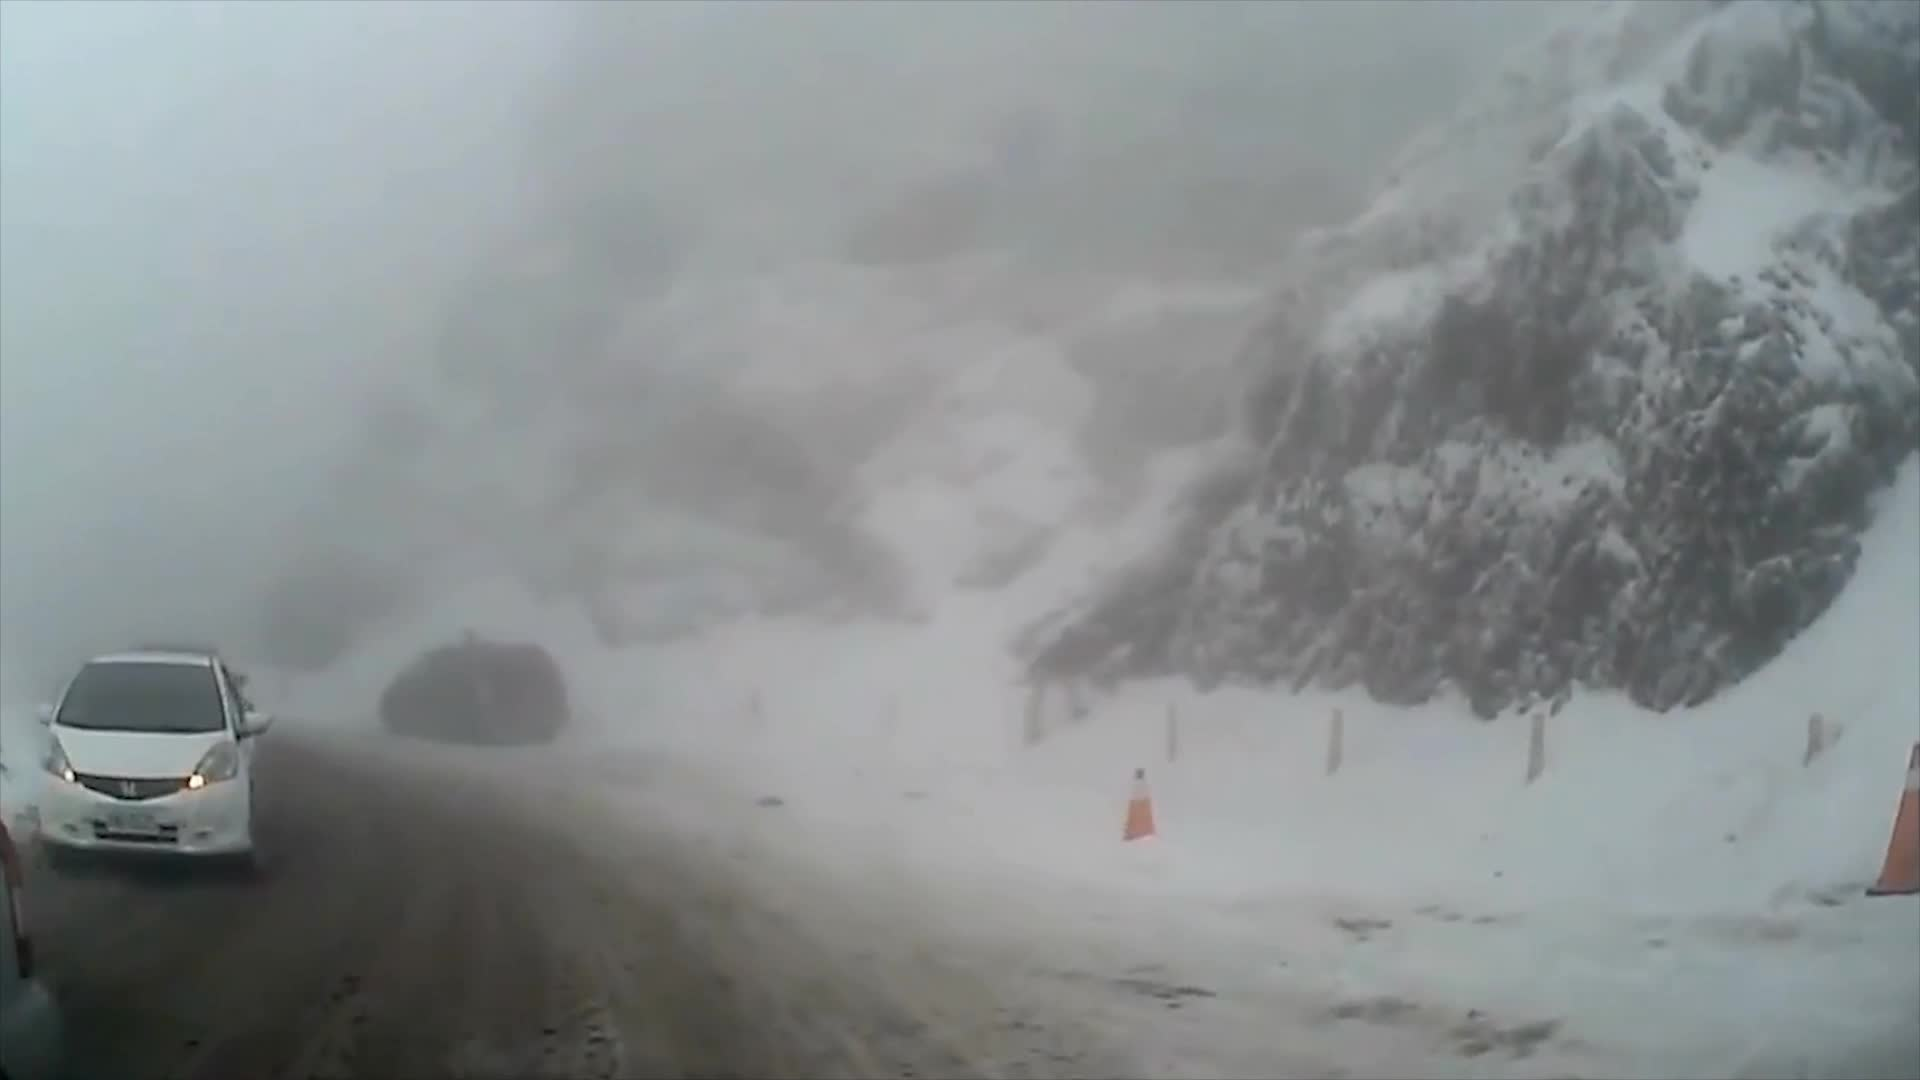vehicle: (26, 647, 270, 880), (384, 646, 572, 752), (0, 822, 63, 1079)
